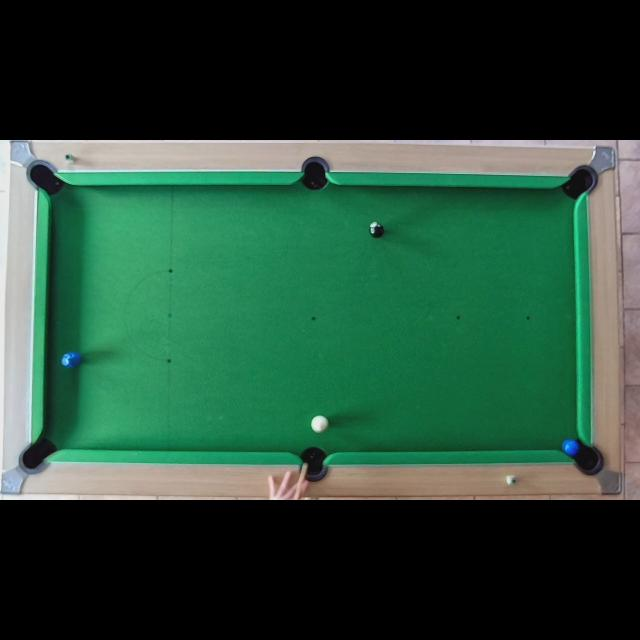Ball: (60, 352, 80, 368), (312, 415, 328, 433), (562, 439, 578, 456), (368, 222, 384, 238)
